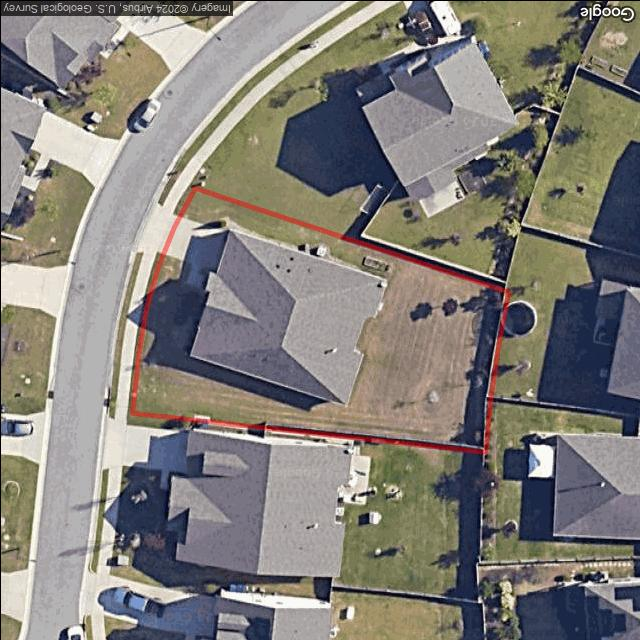Driveway: (162, 215, 226, 269)
Extra-Driveway: (135, 204, 180, 255)
Extra-Lawn: (126, 252, 163, 412), (108, 253, 140, 409), (171, 184, 194, 216), (156, 176, 176, 206)
Extra-Sidewalk: (114, 253, 156, 412), (160, 178, 187, 212)
House: (189, 227, 390, 405)
Lawn: (133, 189, 508, 453)
Other: (358, 252, 393, 275), (293, 239, 326, 257), (424, 388, 439, 406)
Sidewalk: (183, 263, 214, 292)
